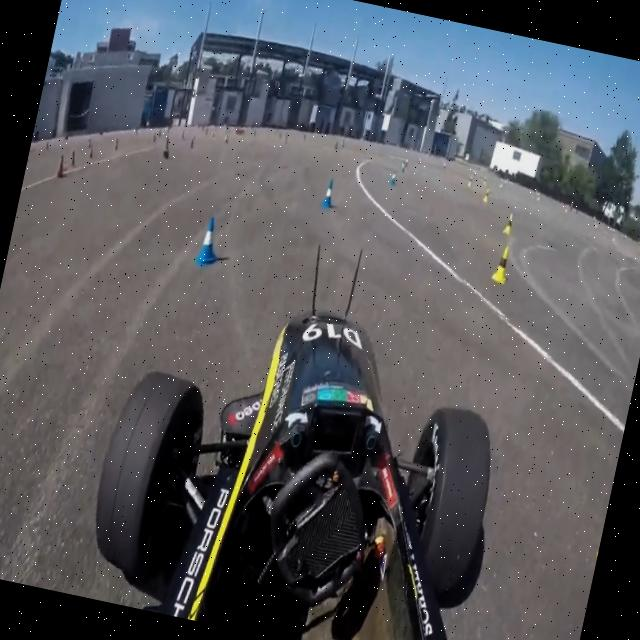blue_cone: (194, 213, 224, 270), (319, 178, 337, 212)
yellow_cone: (490, 243, 513, 284), (502, 210, 516, 236)
